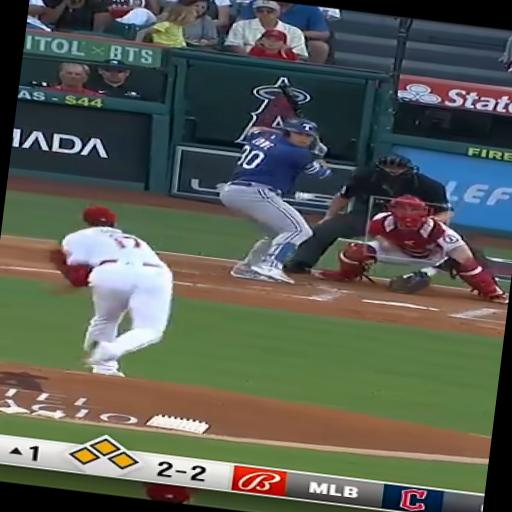bat: (280, 82, 305, 119)
